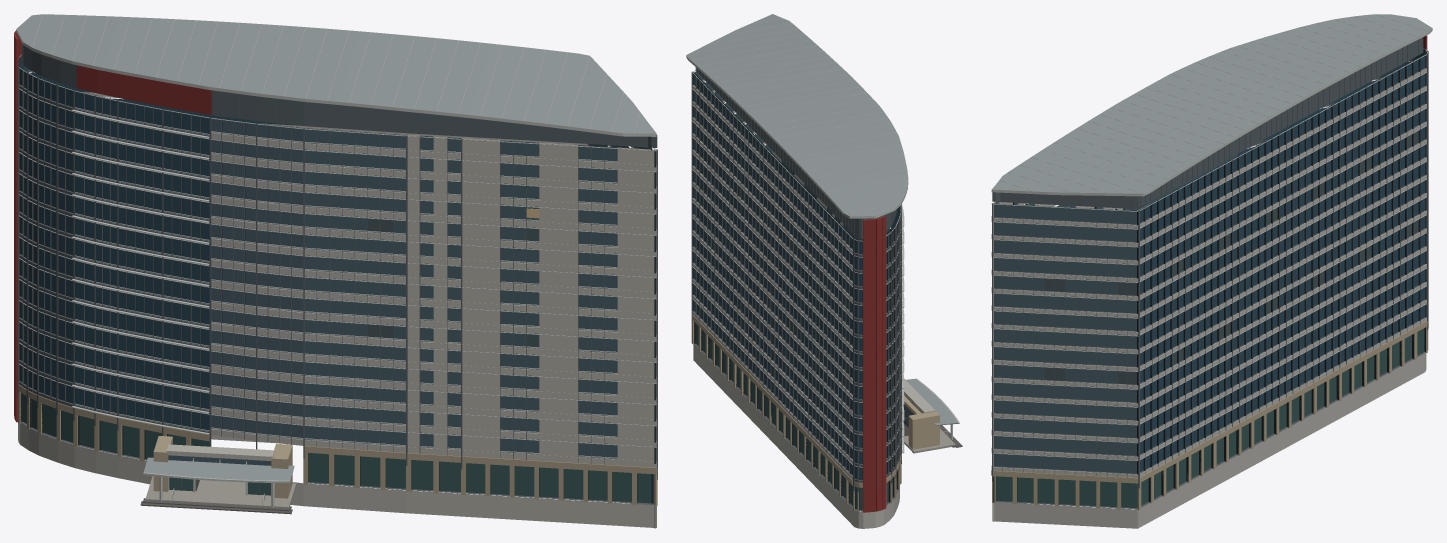
The model's file is menara_razak_lod0.glb.
3 renders of one model, left to right at view 1: azimuth 30°, elevation 25°; view 2: azimuth 150°, elevation 25°; view 3: azimuth 270°, elevation 25°, orthographic. The views are drawn at different scales.
Visible parts, largest first — view 1: Precast, GlassSteel, GlassBlue, RoofSeam, Anodized, Silver, GlassLobby, Louvers, Sandstone, Shadow, Wine, RoofEdge (+3 smaller); view 2: Anodized, RoofSeam, GlassBlue, Shadow, Precast, Wine, Silver, Sandstone, RoofEdge, Louvers, GlassLobby, GlassSteel (+2 smaller); view 3: GlassBlue, Precast, Anodized, RoofSeam, GlassSteel, Shadow, Silver, GlassLobby, Louvers, Sandstone, RoofEdge, GlassWarm.
Boxes of the visible parts, bbox=[...] form: Precast: bbox=[18, 92, 656, 528]; GlassSteel: bbox=[168, 117, 654, 465]; GlassBlue: bbox=[18, 57, 297, 431]; RoofSeam: bbox=[16, 14, 656, 480]; Anodized: bbox=[17, 56, 657, 504]; Silver: bbox=[18, 54, 657, 507]; GlassLobby: bbox=[23, 394, 653, 503]; Louvers: bbox=[21, 42, 657, 150]; Sandstone: bbox=[18, 384, 657, 505]; Shadow: bbox=[19, 57, 656, 503]; Wine: bbox=[14, 30, 212, 422]; RoofEdge: bbox=[16, 14, 656, 136]; Anodized: bbox=[691, 70, 958, 511]; RoofSeam: bbox=[686, 14, 958, 425]; GlassBlue: bbox=[694, 72, 899, 480]; Shadow: bbox=[692, 72, 913, 509]; Precast: bbox=[692, 79, 935, 528]; Wine: bbox=[863, 216, 886, 512]; Silver: bbox=[692, 70, 959, 467]; Sandstone: bbox=[691, 314, 939, 511]; RoofEdge: bbox=[686, 18, 908, 218]; Louvers: bbox=[695, 67, 896, 238]; GlassLobby: bbox=[696, 324, 892, 510]; GlassSteel: bbox=[693, 72, 920, 411]; GlassBlue: bbox=[1138, 49, 1425, 471]; Precast: bbox=[991, 68, 1426, 528]; Anodized: bbox=[992, 39, 1428, 509]; RoofSeam: bbox=[992, 14, 1432, 193]; GlassSteel: bbox=[994, 154, 1237, 473]; Shadow: bbox=[993, 50, 1426, 507]; Silver: bbox=[991, 48, 1427, 460]; GlassLobby: bbox=[994, 328, 1424, 508]; Louvers: bbox=[992, 37, 1423, 209]; Sandstone: bbox=[991, 318, 1428, 510]; RoofEdge: bbox=[991, 14, 1432, 196]; GlassWarm: bbox=[1044, 131, 1418, 384].
Bounding box in the file's own units: 60.65 × 57.04 × 65.62.
